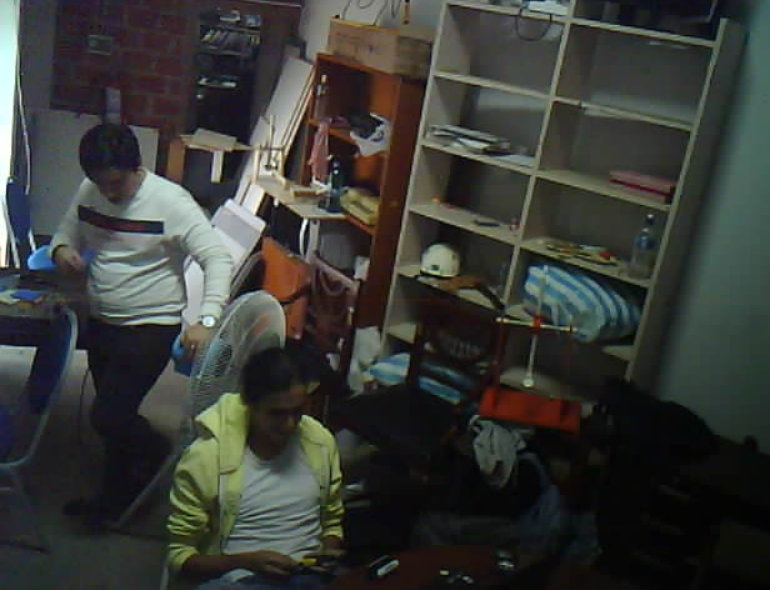person: (39, 111, 242, 533), (158, 337, 379, 590)
